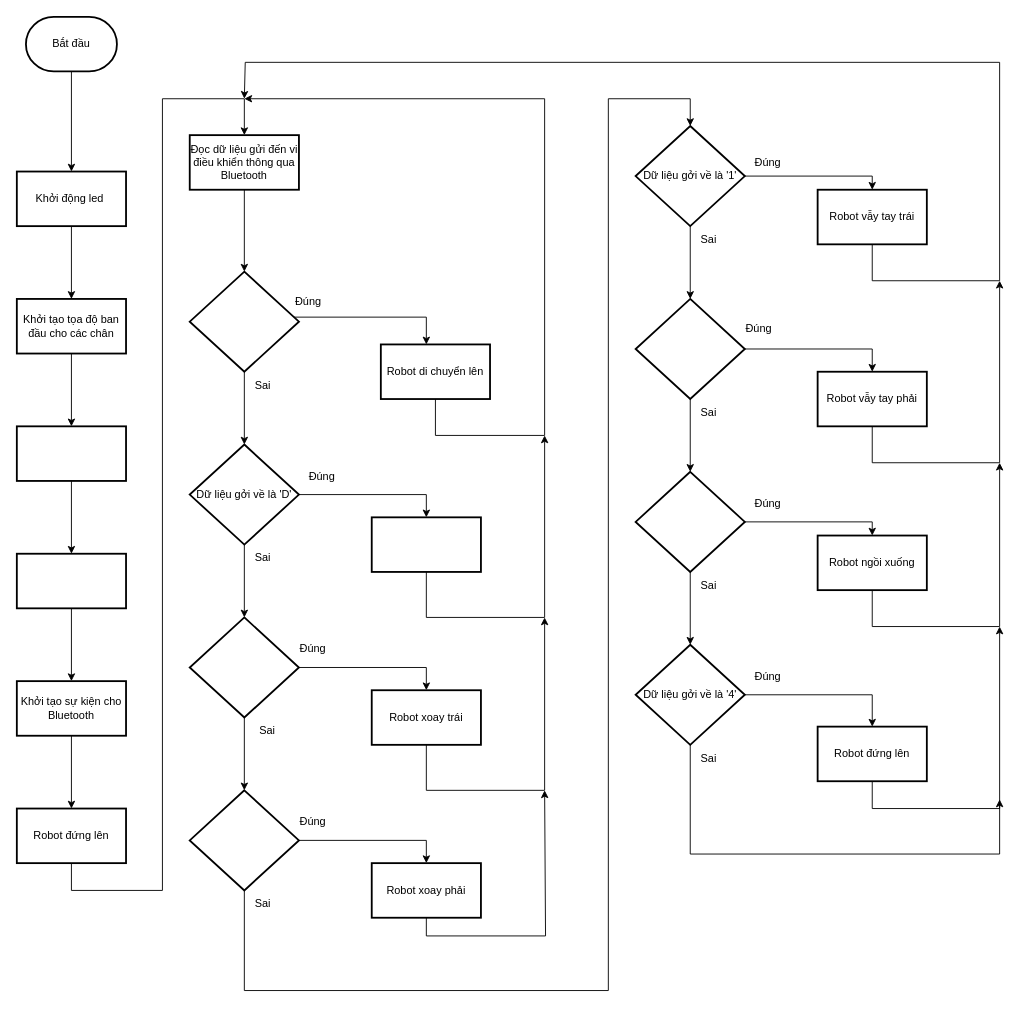
Some shapes in this 1023 by 1014 pixel diagram are drawn without their labels. Each missing label, with the centre of its shape:
"Dữ liệu gởi về là '2'" goes at [689,348].
"Dữ liệu gởi về là '3'" goes at [689,521].
"Dữ liệu gởi về là 'L'" goes at [243,667].
"Dữ liệu gởi về là 'R'" goes at [243,840].
"Dữ liệu gởi về là 'U'" goes at [243,321].
"Khởi tạo servo ở mỗi chân" goes at [70,580].
"Khởi tạo timer interrupt để cập nhật vị trí các chân mỗi 18ms" goes at [70,453].
"Robot lùi lại" goes at [425,544].
